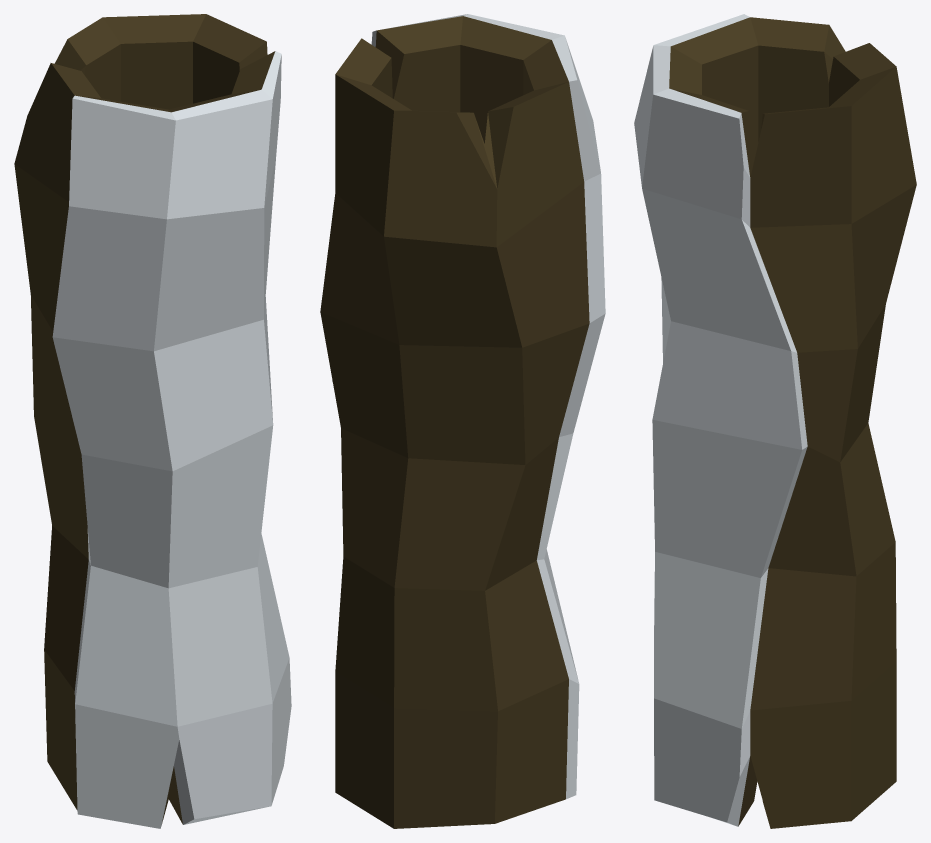
Rendered from tronco_suelo_nev.obj.
3 views of the same model, side by side, from view 1: azimuth 30°, elevation 25°; view 2: azimuth 150°, elevation 25°; view 3: azimuth 270°, elevation 25° (orthographic).
Parts seen in each view (by area): view 1: Circle.003; view 2: Circle.003; view 3: Circle.003.
Boxes of the visible parts, x1=… form: Circle.003: x1=14, y1=14, x2=291, y2=828; Circle.003: x1=320, y1=14, x2=605, y2=828; Circle.003: x1=634, y1=14, x2=916, y2=828.
Bounding box in the file's own units: 2.32 × 6.6 × 2.36.
